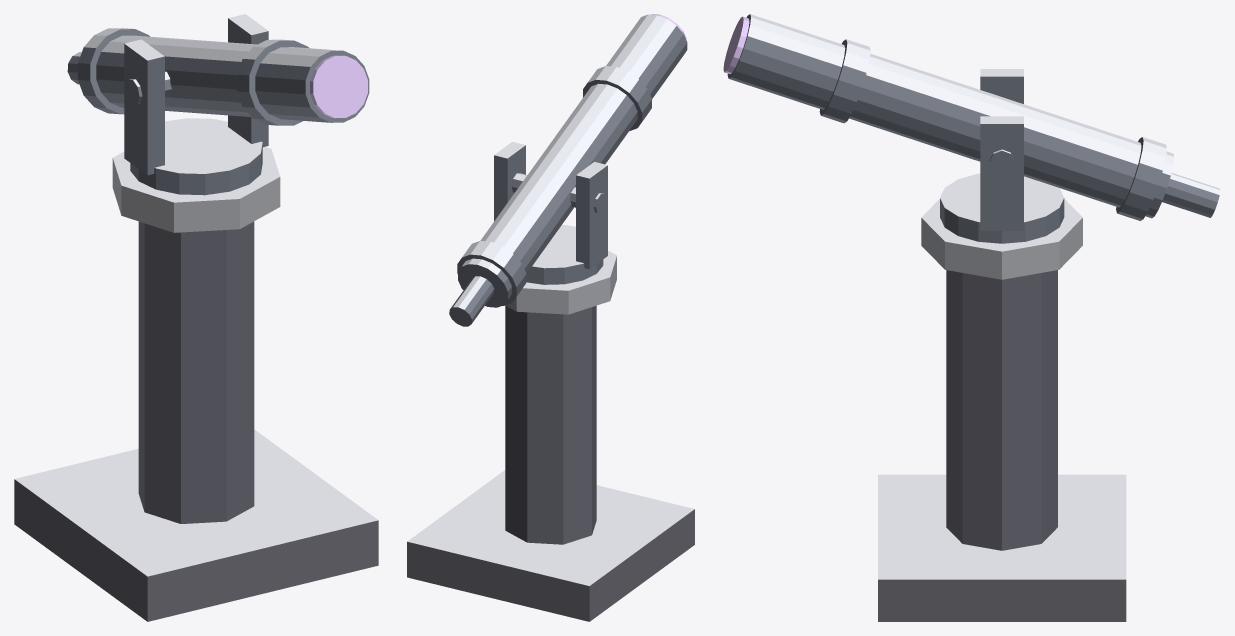
The model's file is PR_Luneta.fbx.
3 views of the same model, side by side, from view 1: azimuth 30°, elevation 25°; view 2: azimuth 150°, elevation 25°; view 3: azimuth 270°, elevation 25° (orthographic). The views are drawn at different scales.
Parts seen in each view (by area): view 1: PR_Luneta; view 2: PR_Luneta; view 3: PR_Luneta.
Part boxes in pixels (x1=…): PR_Luneta: x1=14, y1=14, x2=378, y2=621; PR_Luneta: x1=407, y1=14, x2=694, y2=621; PR_Luneta: x1=723, y1=14, x2=1220, y2=621.
Size of the model in its own units: 0.8 by 1.96 by 1.6.
